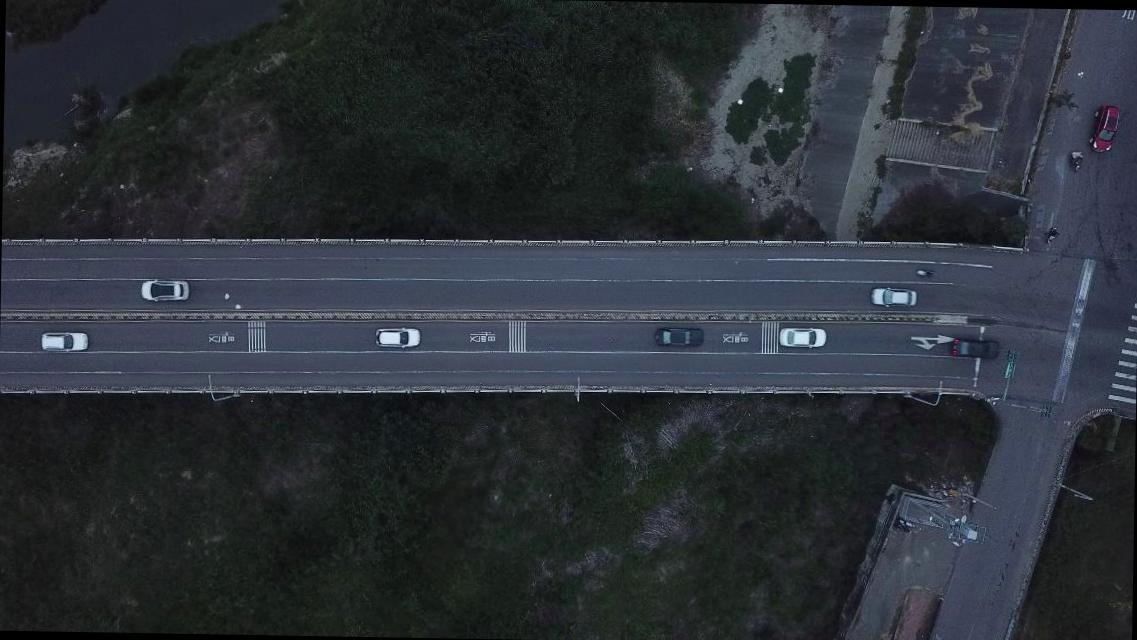vehicle: (1087, 105, 1124, 152), (653, 326, 704, 352), (950, 336, 1002, 360), (868, 284, 920, 308), (780, 324, 828, 350), (142, 280, 190, 304), (39, 330, 88, 352), (376, 326, 420, 348)
